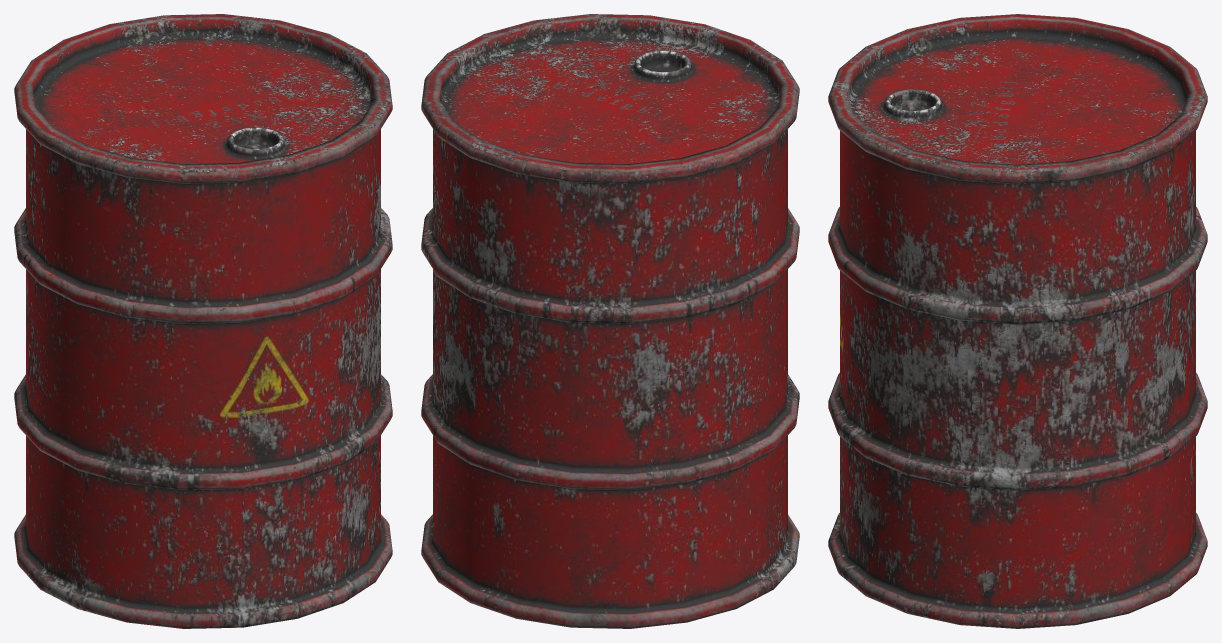
The model's file is barril.glb.
The picture shows the model from 3 angles, left to right: view 1: azimuth 30°, elevation 25°; view 2: azimuth 150°, elevation 25°; view 3: azimuth 270°, elevation 25°; orthographic projection.
Parts seen in each view (by area): view 1: barril; view 2: barril; view 3: barril.
Boxes of the visible parts, x1,y1,x2,y2 form: barril: (14,14,392,628); barril: (421,14,799,628); barril: (828,14,1207,628).
Bounding box in the file's own units: 0.675 × 0.9 × 0.675.
1 material, 1 textured.
